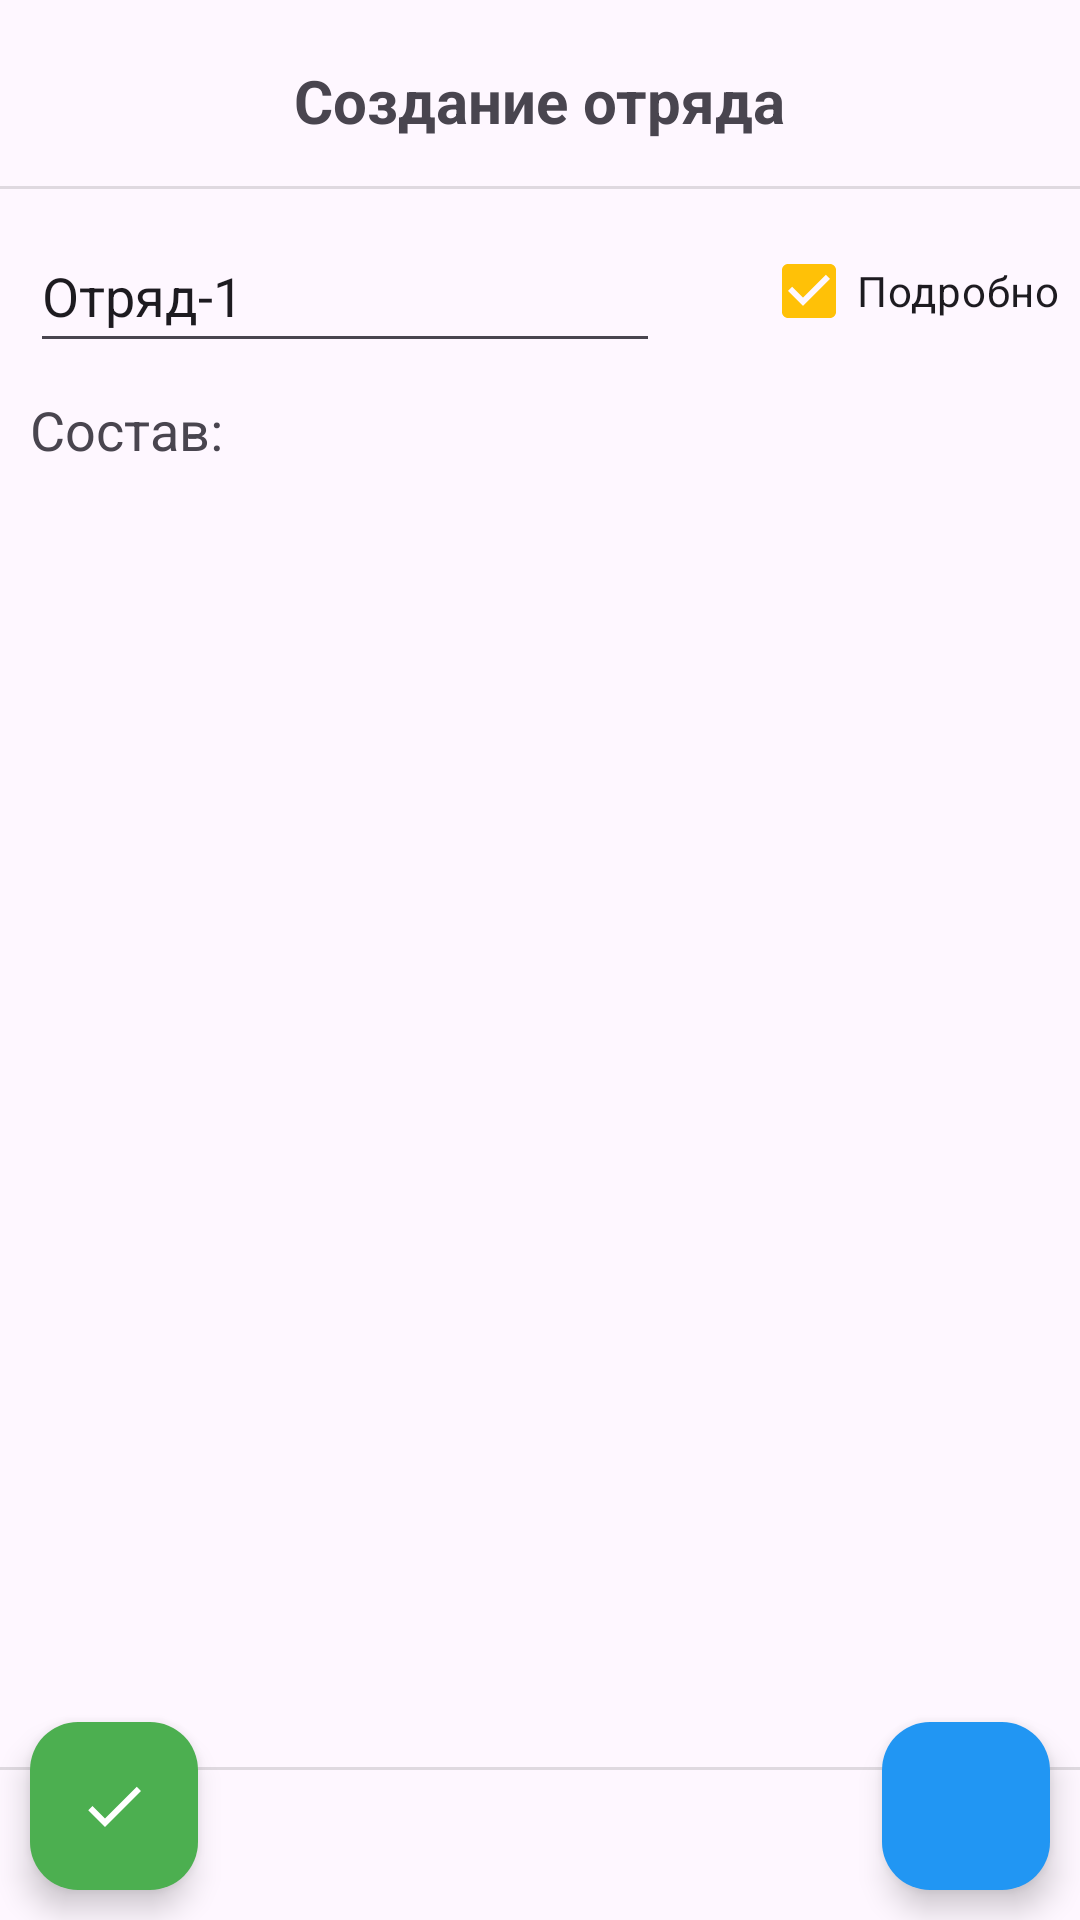

Named icons in this screenshot (1080x1920) and their centers, (x=x, y=y):
check: (x=114, y=1806)
